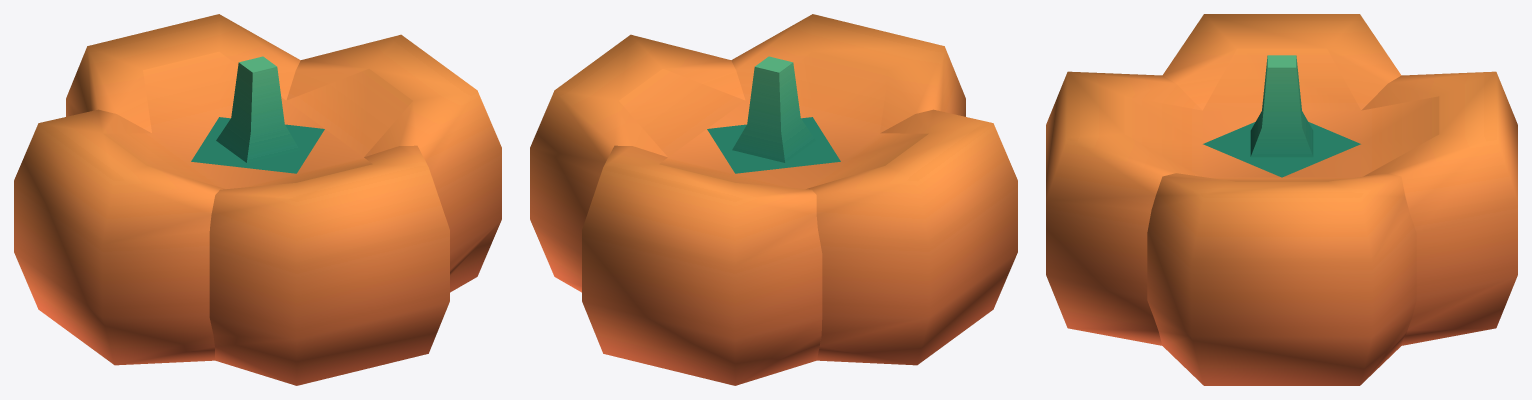
File: pumpkin.glb
The picture shows the model from 3 angles, left to right: view 1: azimuth 30°, elevation 25°; view 2: azimuth 150°, elevation 25°; view 3: azimuth 270°, elevation 25°; orthographic projection. The views are drawn at different scales.
Visible parts, largest first — view 1: pumpkin; view 2: pumpkin; view 3: pumpkin.
Boxes of the visible parts, x1,y1,x2,y2 form: pumpkin: [14, 14, 501, 385]; pumpkin: [530, 14, 1017, 385]; pumpkin: [1046, 14, 1517, 385].
Bounding box in the file's own units: 0.4189 × 0.2291 × 0.4189.
Materials: 1 (1 with a texture image).
